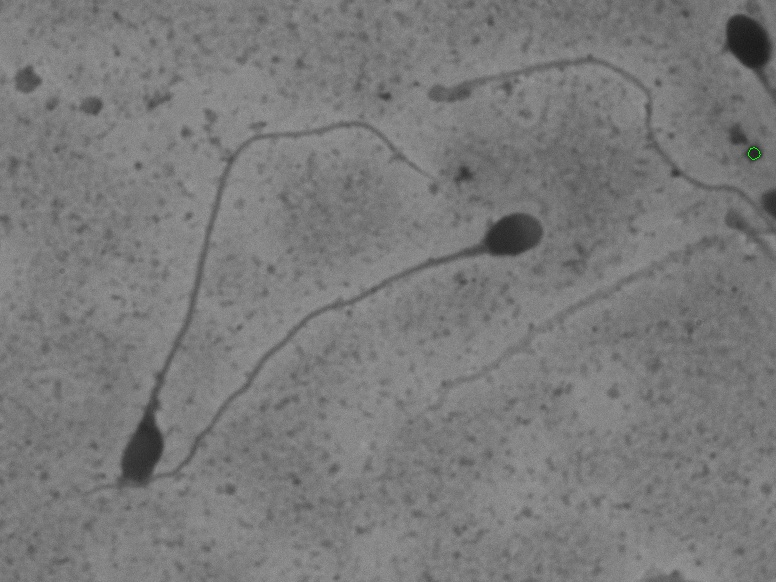Abnormal: (60, 239, 229, 502)
Normal: (83, 195, 564, 509)
